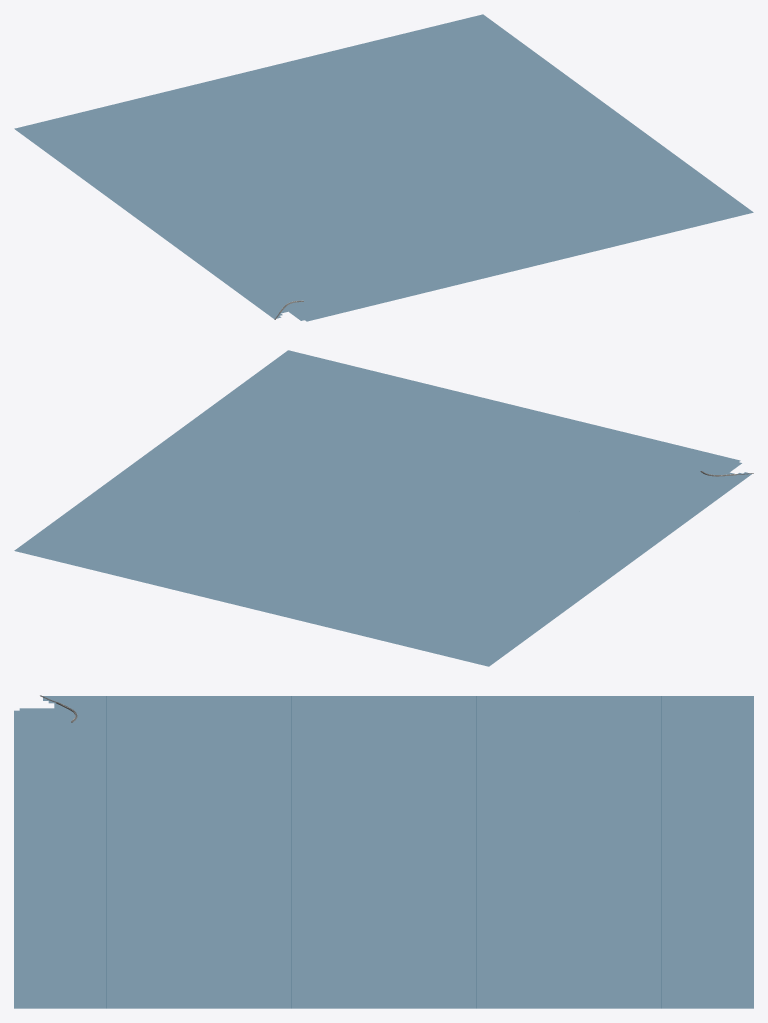
File: chunk_9_3.glb
The picture shows the model from 3 angles, top to bottom: view 1: azimuth 30°, elevation 25°; view 2: azimuth 150°, elevation 25°; view 3: azimuth 270°, elevation 25°; orthographic projection. The views are drawn at different scales.
Visible parts, largest first — view 1: Water_9_3; view 2: Water_9_3; view 3: Water_9_3.
Part boxes in pixels (<box>): Water_9_3: <box>14,14,753,321</box>; Water_9_3: <box>14,350,751,666</box>; Water_9_3: <box>14,696,753,1008</box>.
Bounding box in the file's own units: 2051 × 4.05 × 2048.
